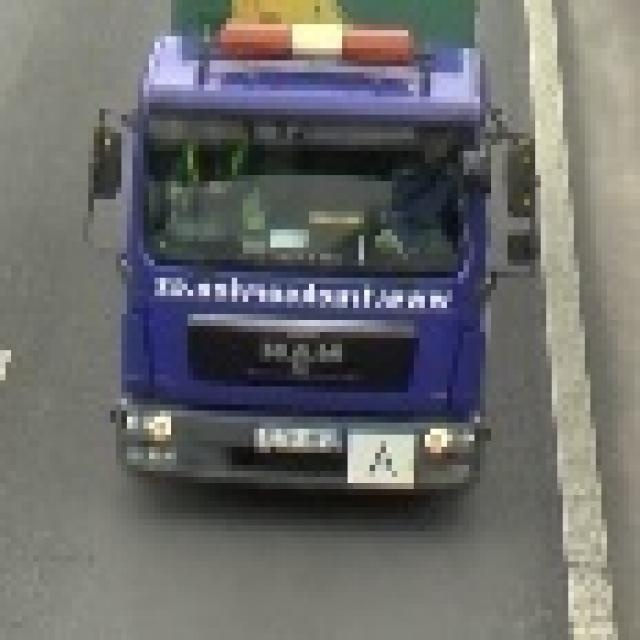Truck: (82, 0, 536, 507)
